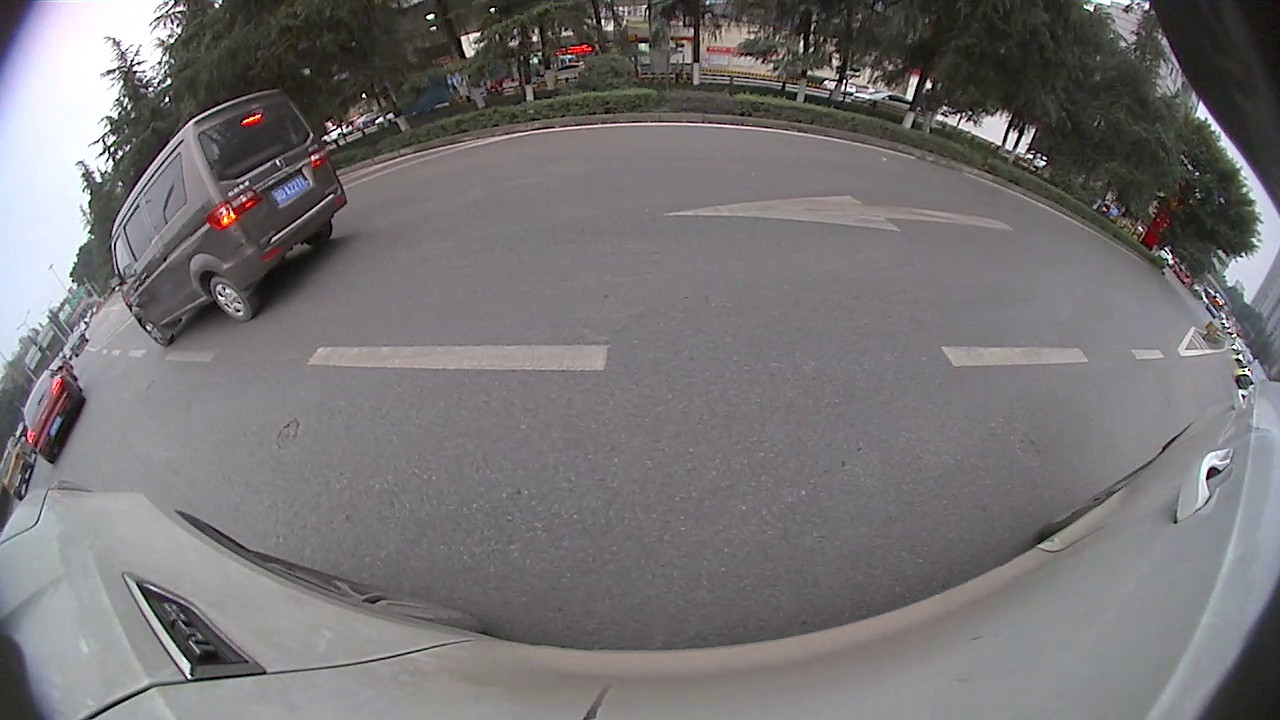car: (106, 86, 347, 345), (18, 363, 91, 467)
front: (138, 319, 171, 347)
rear: (207, 271, 255, 326)
